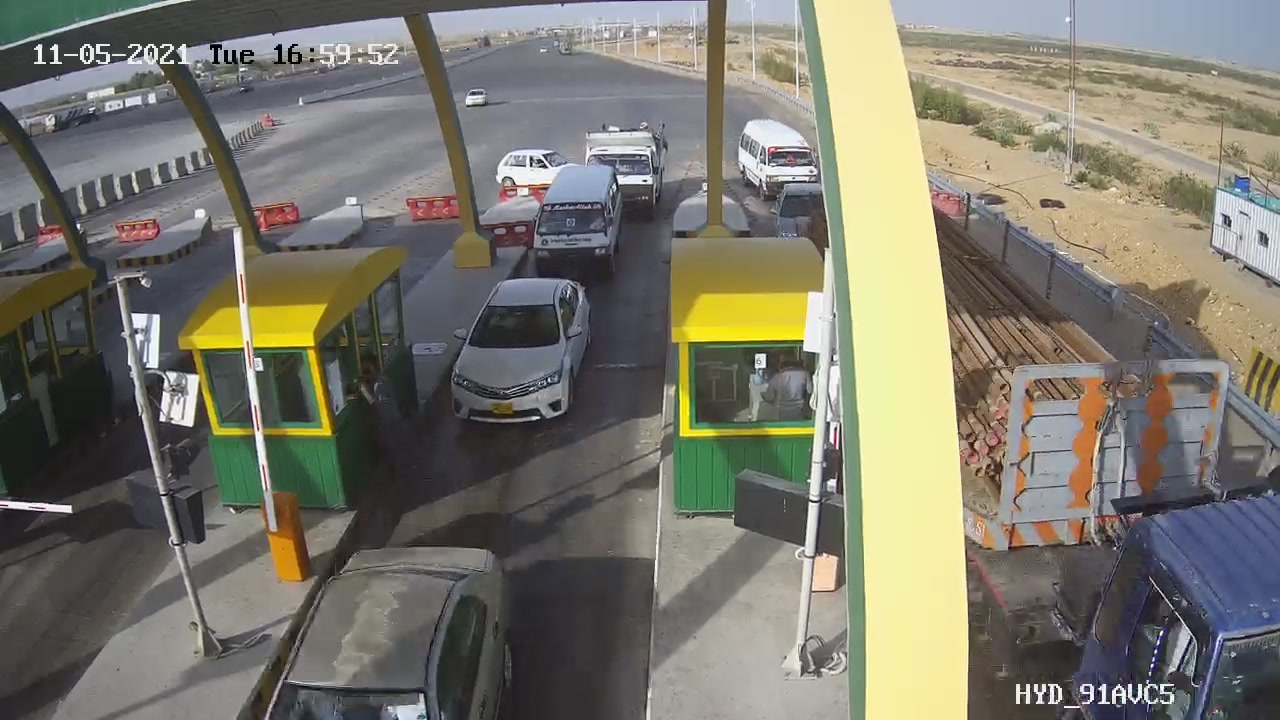F1: (427, 267, 620, 445)
